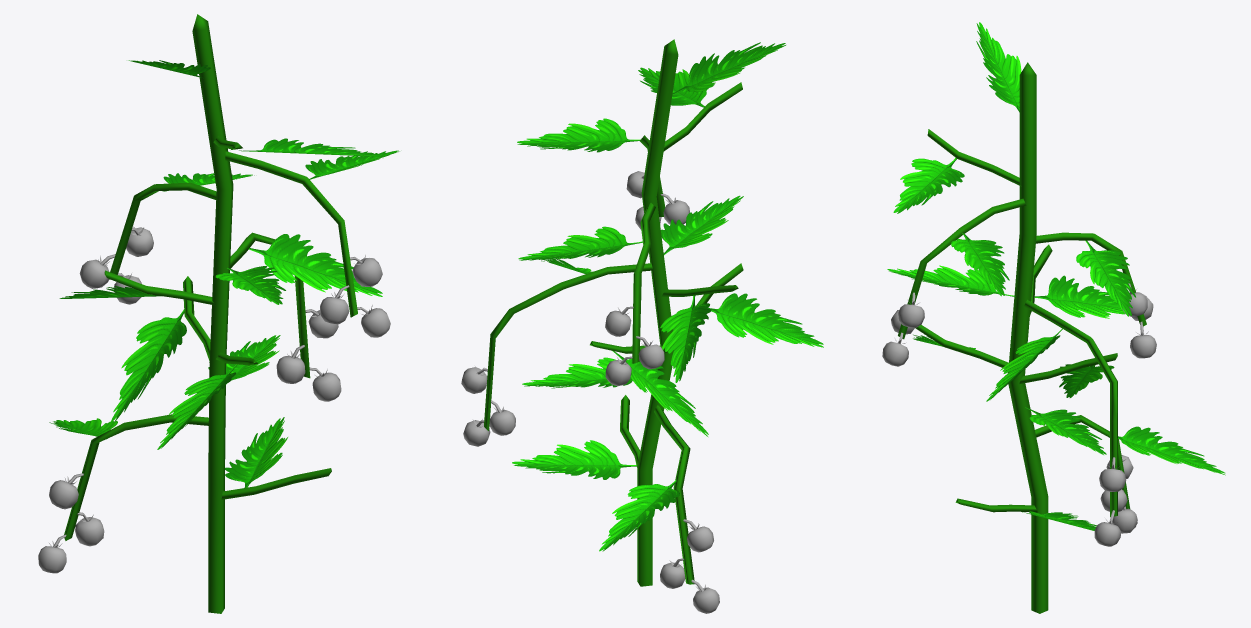
The model's file is Tomatoes Stage 1.fbx.
3 views of the same model, side by side, from view 1: azimuth 30°, elevation 25°; view 2: azimuth 150°, elevation 25°; view 3: azimuth 270°, elevation 25° (orthographic). The views are drawn at different scales.
Parts seen in each view (by area): view 1: Tomato_Plant_Body_Full_Grown, polySurface286, polySurface293, polySurface285, polySurface291, polySurface295, polySurface292, polySurface296, polySurface288, pCylinder19, pCylinder29, pCylinder41 (+11 smaller); view 2: Tomato_Plant_Body_Full_Grown, polySurface291, polySurface285, polySurface288, polySurface289, polySurface290, polySurface294, polySurface295, polySurface287, polySurface293, polySurface296, polySurface292 (+10 smaller); view 3: Tomato_Plant_Body_Full_Grown, polySurface287, polySurface292, polySurface290, polySurface294, polySurface289, polySurface288, polySurface295, polySurface296, polySurface286, polySurface293, pCylinder33 (+5 smaller).
Boxes of the visible parts, <box> form: Tomato_Plant_Body_Full_Grown: <box>64,14,357,613</box>; polySurface286: <box>249,234,382,296</box>; polySurface293: <box>111,309,186,421</box>; polySurface285: <box>225,417,287,487</box>; polySurface291: <box>157,364,237,449</box>; polySurface295: <box>215,266,285,304</box>; polySurface292: <box>239,138,384,156</box>; polySurface296: <box>208,335,280,384</box>; polySurface288: <box>305,150,399,179</box>; pCylinder19: <box>49,473,83,509</box>; pCylinder29: <box>276,345,305,383</box>; pCylinder41: <box>320,285,349,324</box>; Tomato_Plant_Body_Full_Grown: <box>484,39,743,586</box>; polySurface291: <box>707,293,823,347</box>; polySurface285: <box>512,440,636,479</box>; polySurface288: <box>517,118,640,152</box>; polySurface289: <box>599,480,679,551</box>; polySurface290: <box>660,295,711,382</box>; polySurface294: <box>672,42,785,94</box>; polySurface295: <box>661,195,743,254</box>; polySurface287: <box>518,226,642,261</box>; polySurface293: <box>612,350,708,436</box>; polySurface296: <box>522,357,632,388</box>; polySurface292: <box>638,67,706,107</box>; Tomato_Plant_Body_Full_Grown: <box>898,62,1146,613</box>; polySurface287: <box>1076,240,1135,316</box>; polySurface292: <box>893,157,964,213</box>; polySurface290: <box>1034,275,1124,318</box>; polySurface294: <box>976,22,1021,112</box>; polySurface289: <box>1109,426,1225,475</box>; polySurface288: <box>951,233,1009,296</box>; polySurface295: <box>887,265,1015,296</box>; polySurface296: <box>1025,407,1106,454</box>; polySurface286: <box>986,328,1062,401</box>; polySurface293: <box>1059,364,1114,397</box>; pCylinder33: <box>1130,321,1156,358</box>.
Bounding box in the file's own units: 0.4101 × 0.7579 × 0.4653.
3 materials, 1 textured.
